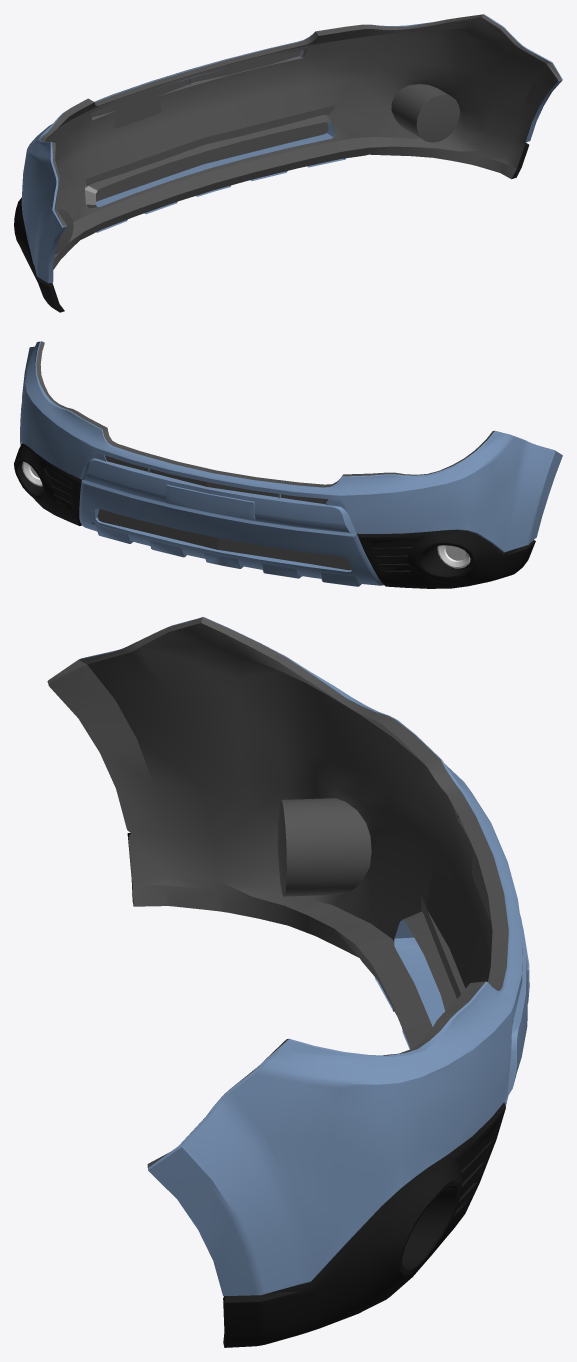
Rendered from front_bumper.fbx.
3 views of the same model, one above another, from view 1: azimuth 30°, elevation 25°; view 2: azimuth 150°, elevation 25°; view 3: azimuth 270°, elevation 25° (orthographic). The views are drawn at different scales.
Visible parts, largest first — view 1: bump_fro01_001; view 2: bump_fro01_001; view 3: bump_fro01_001.
Boxes of the visible parts, bbox=[...] form: bump_fro01_001: bbox=[14, 14, 562, 312]; bump_fro01_001: bbox=[14, 341, 562, 588]; bump_fro01_001: bbox=[47, 617, 529, 1347].
Bounding box in the file's own units: 257 × 71.87 × 107.
